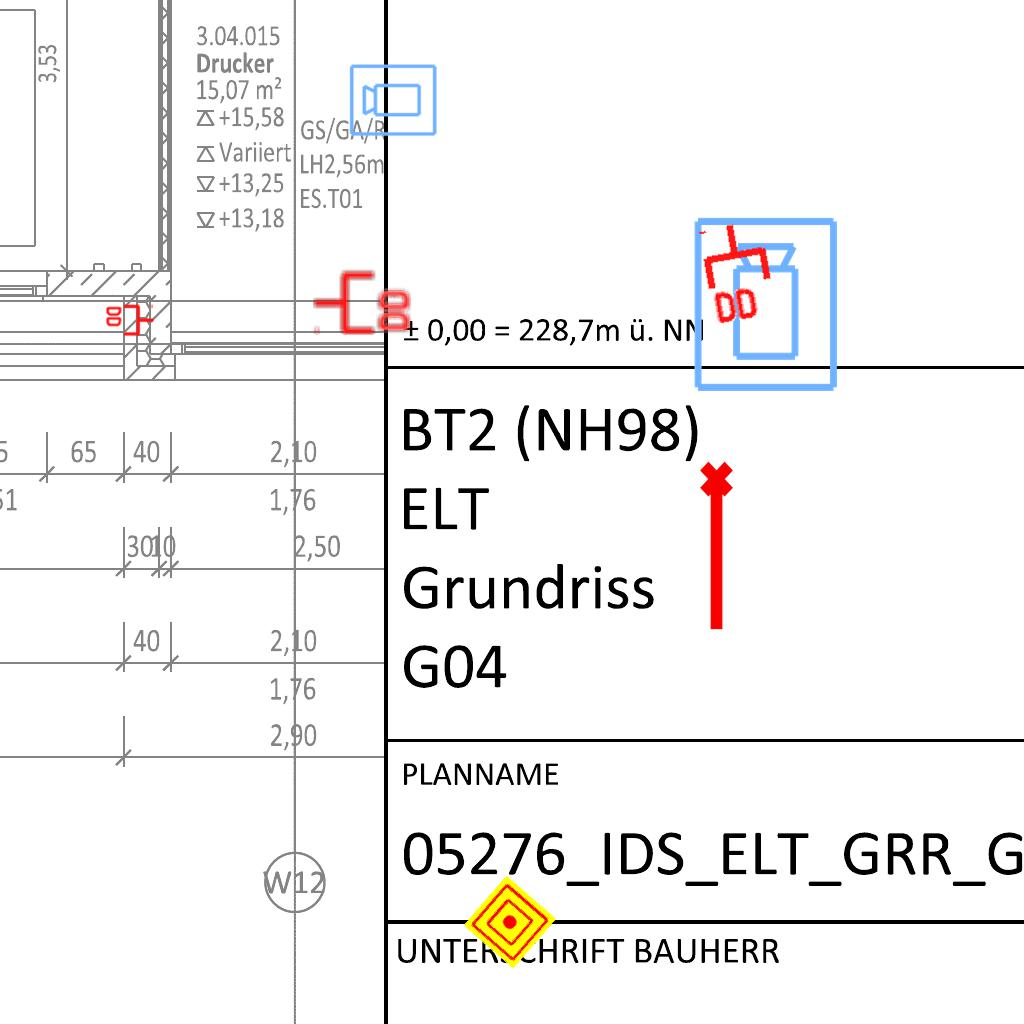ASR_Ansaugoeffnung: (696, 459, 742, 635)
Datenanschluss_zweifach: (696, 215, 783, 330), (311, 267, 414, 336), (104, 304, 155, 338)
KFO_Kamera_mit_Festobjektiv: (690, 214, 844, 396), (348, 61, 439, 138)
NAM-Nichtautomatischer_Melder: (463, 875, 557, 969)
